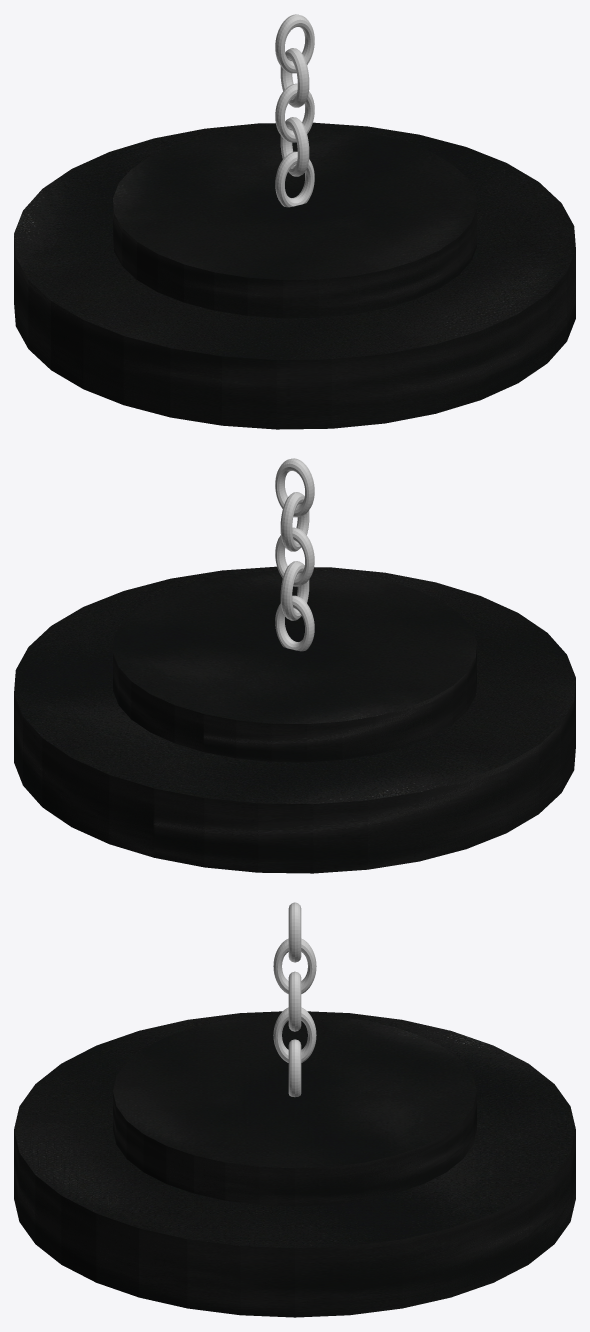
Rendered from LamparaFI.obj.
3 renders of one model, top to bottom at view 1: azimuth 30°, elevation 25°; view 2: azimuth 150°, elevation 25°; view 3: azimuth 270°, elevation 25°, orthographic.
Visible parts, largest first — view 1: Cylinder, Cylinder.002, Torus.004, Torus, Torus.002, Torus.003, Torus.001; view 2: Cylinder, Cylinder.002, Torus.004, Torus, Torus.002, Torus.003, Torus.001; view 3: Cylinder, Cylinder.002, Torus.001, Torus.003, Torus.004, Torus.002, Torus.
Boxes of the visible parts, bbox=[...] form: Cylinder: bbox=[14, 122, 575, 429]; Cylinder.002: bbox=[113, 126, 476, 318]; Torus.004: bbox=[275, 14, 314, 73]; Torus: bbox=[275, 151, 314, 207]; Torus.002: bbox=[275, 83, 314, 142]; Torus.003: bbox=[280, 48, 309, 107]; Torus.001: bbox=[280, 117, 309, 176]; Cylinder: bbox=[14, 566, 575, 873]; Cylinder.002: bbox=[113, 570, 476, 762]; Torus.004: bbox=[275, 458, 314, 517]; Torus: bbox=[275, 595, 314, 651]; Torus.002: bbox=[275, 527, 314, 586]; Torus.003: bbox=[280, 492, 309, 551]; Torus.001: bbox=[280, 561, 309, 620]; Cylinder: bbox=[14, 1011, 575, 1317]; Cylinder.002: bbox=[113, 1015, 476, 1206]; Torus.001: bbox=[273, 1007, 316, 1062]; Torus.003: bbox=[273, 938, 316, 993]; Torus.004: bbox=[288, 902, 301, 962]; Torus.002: bbox=[288, 971, 301, 1031]; Torus: bbox=[288, 1039, 301, 1097].
Size of the model in its own units: 0.5593 by 0.3346 by 0.5593.
